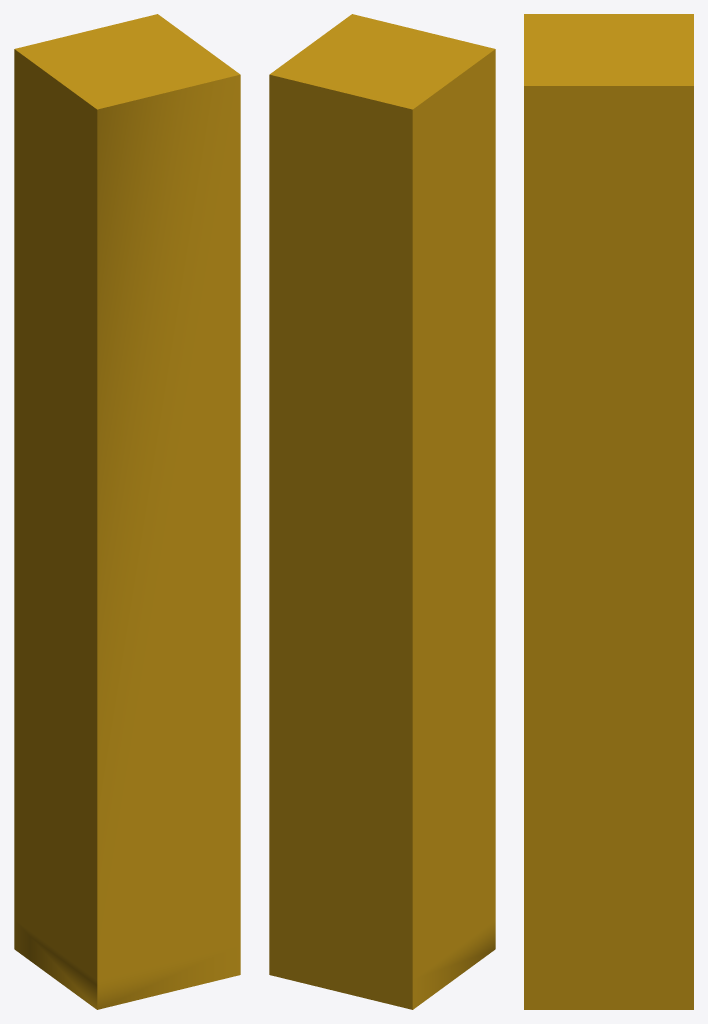
The model's file is interior_wall28.fbx.
The picture shows the model from 3 angles, left to right: view 1: azimuth 30°, elevation 25°; view 2: azimuth 150°, elevation 25°; view 3: azimuth 270°, elevation 25°; orthographic projection. The views are drawn at different scales.
Visible parts, largest first — view 1: interior_wall28; view 2: interior_wall28; view 3: interior_wall28.
Part boxes in pixels (bbox=[...]): interior_wall28: bbox=[14, 14, 240, 1009]; interior_wall28: bbox=[269, 14, 495, 1009]; interior_wall28: bbox=[524, 14, 693, 1009].
Bounding box in the file's own units: 197 × 1181 × 197.
